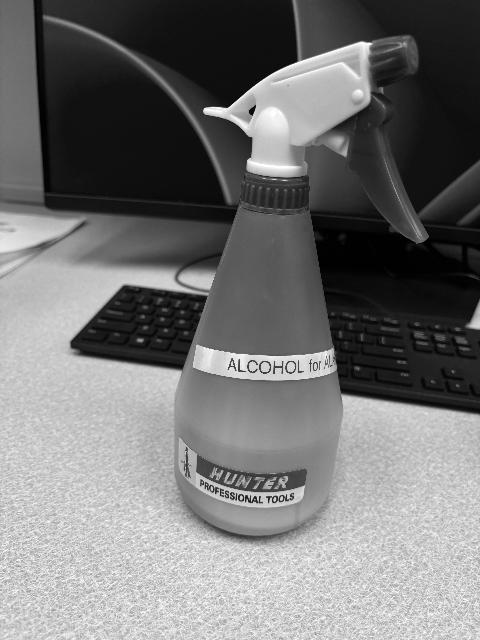AlcoholSpray: (175, 36, 429, 540)
